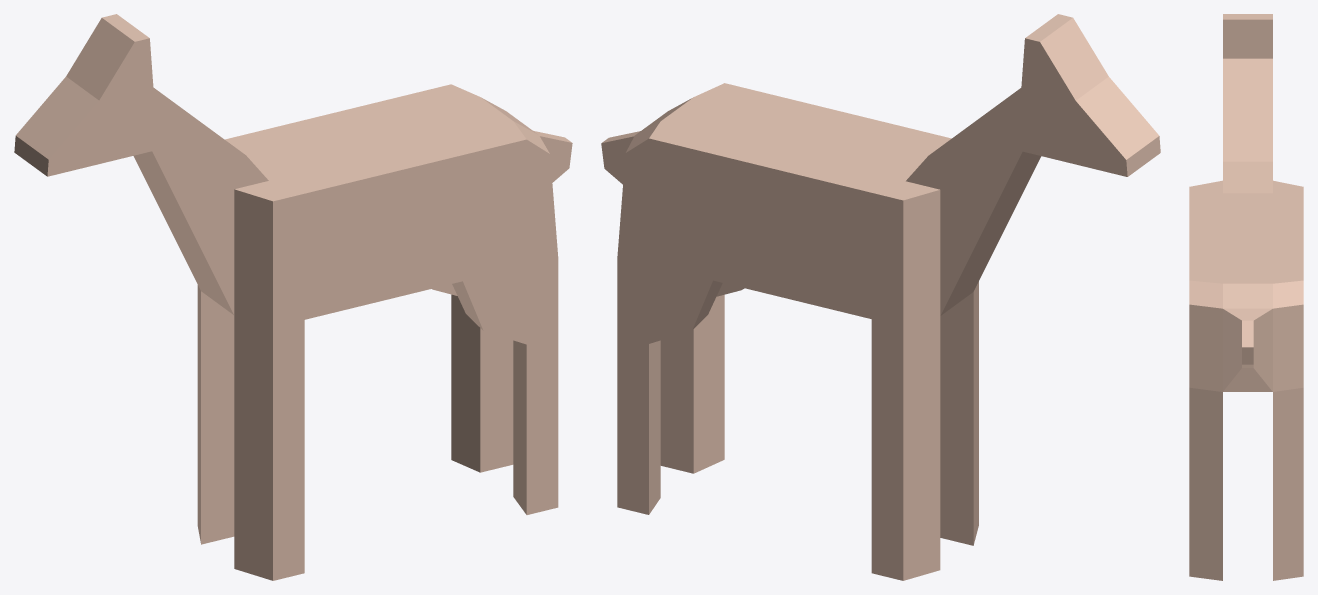
The model's file is deer_block.fbx.
The picture shows the model from 3 angles, left to right: view 1: azimuth 30°, elevation 25°; view 2: azimuth 150°, elevation 25°; view 3: azimuth 270°, elevation 25°; orthographic projection. The views are drawn at different scales.
Parts seen in each view (by area): view 1: deer; view 2: deer; view 3: deer.
Part boxes in pixels (x1,y1,x2,y2): deer: [14, 14, 572, 580]; deer: [601, 14, 1160, 580]; deer: [1189, 14, 1303, 580].
Size of the model in its own units: 117 by 115 by 28.49.
